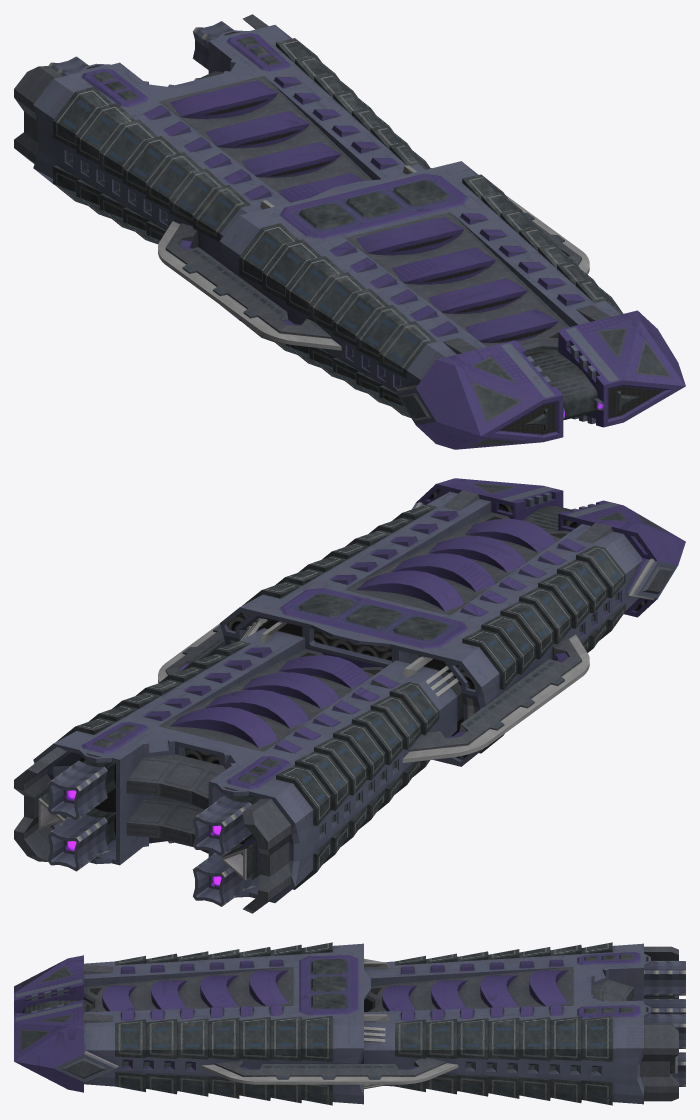
Rendered from archimedes.glb.
The picture shows the model from 3 angles, top to bottom: view 1: azimuth 30°, elevation 25°; view 2: azimuth 150°, elevation 25°; view 3: azimuth 270°, elevation 25°; orthographic projection. The views are drawn at different scales.
Visible parts, largest first — view 1: MeshLP; view 2: MeshLP; view 3: MeshLP.
Part boxes in pixels (x1,y1,x2,y2): MeshLP: (14,14,685,449); MeshLP: (14,478,685,913); MeshLP: (14,942,685,1105).
Bounding box in the file's own units: 8 × 2.79 × 19.2.
1 material, 1 textured.
